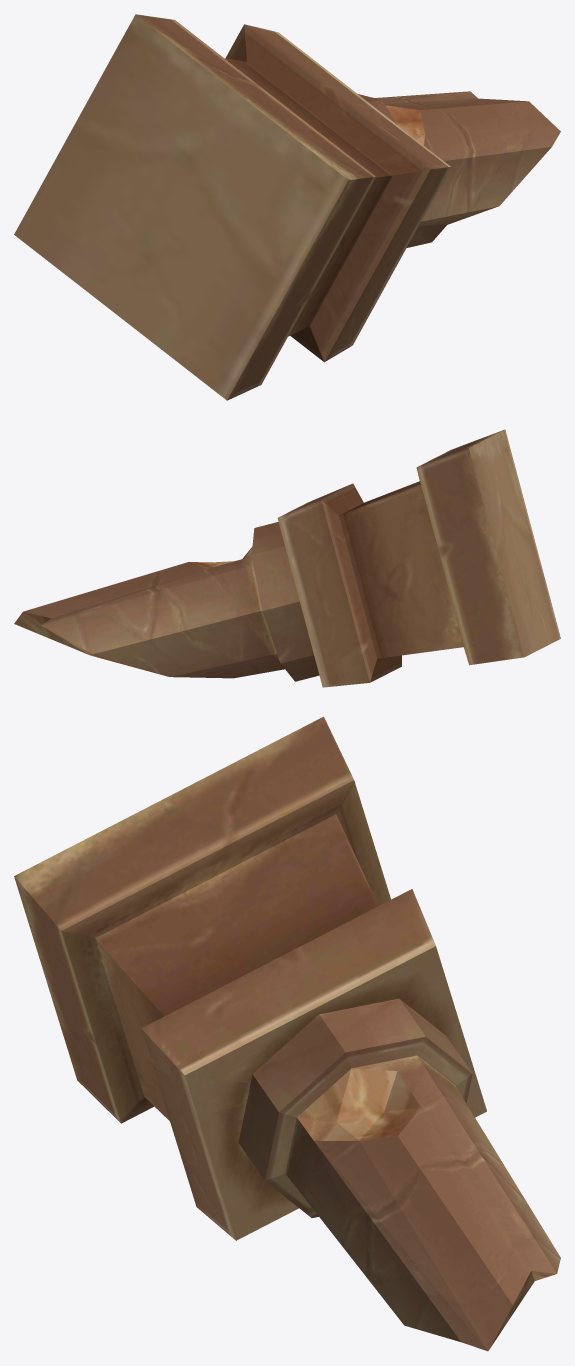
Rendered from YiJi_zhuzi_03.fbx.
3 views of the same model, one above another, from view 1: azimuth 30°, elevation 25°; view 2: azimuth 150°, elevation 25°; view 3: azimuth 270°, elevation 25° (orthographic). The views are drawn at different scales.
Parts seen in each view (by area): view 1: YiJi_zhuzi_03; view 2: YiJi_zhuzi_03; view 3: YiJi_zhuzi_03.
Boxes of the visible parts, x1,y1,x2,y2 form: YiJi_zhuzi_03: (14, 14, 560, 400); YiJi_zhuzi_03: (14, 429, 560, 687); YiJi_zhuzi_03: (14, 716, 560, 1351).
Bounding box in the file's own units: 3.29 × 1.86 × 2.2.
